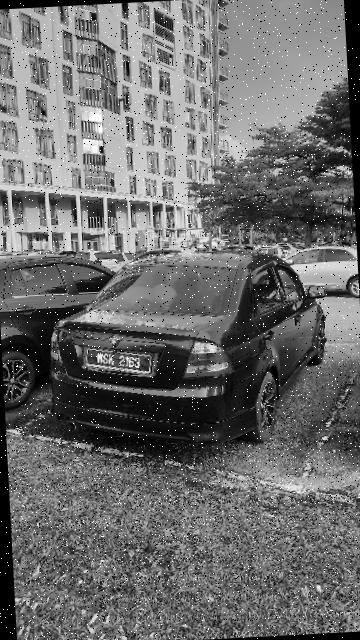License_Plate: (82, 341, 157, 381)
car: (49, 239, 335, 453), (1, 245, 161, 419)
